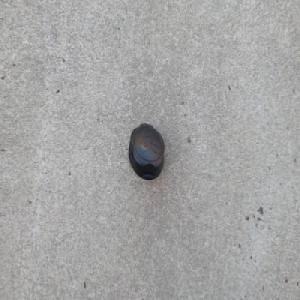FuelCap: (127, 122, 164, 182)
